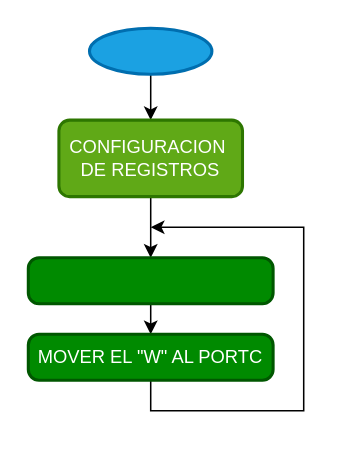
Some shapes in this 343 by 450 pixel diagram are drawn without their labels. Each missing label, with the centre of its shape:
INICIO: the point at 150,50
MOVER EL PORTB A "W": the point at 150,280
